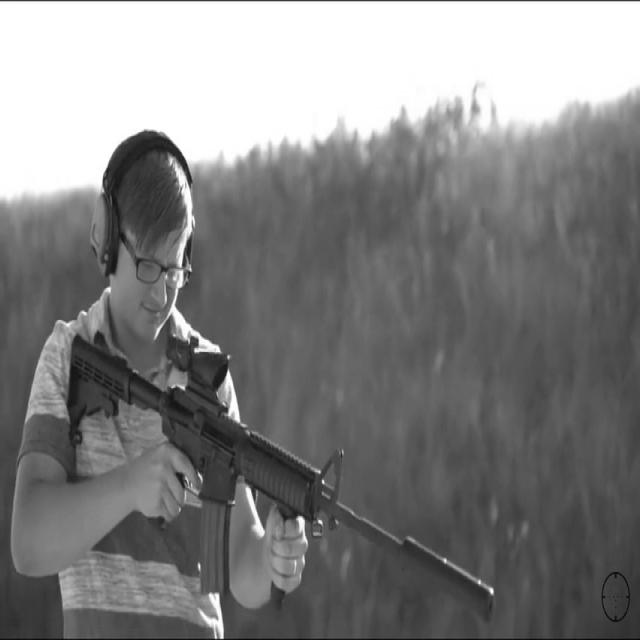Sniper: (78, 426, 518, 598)
